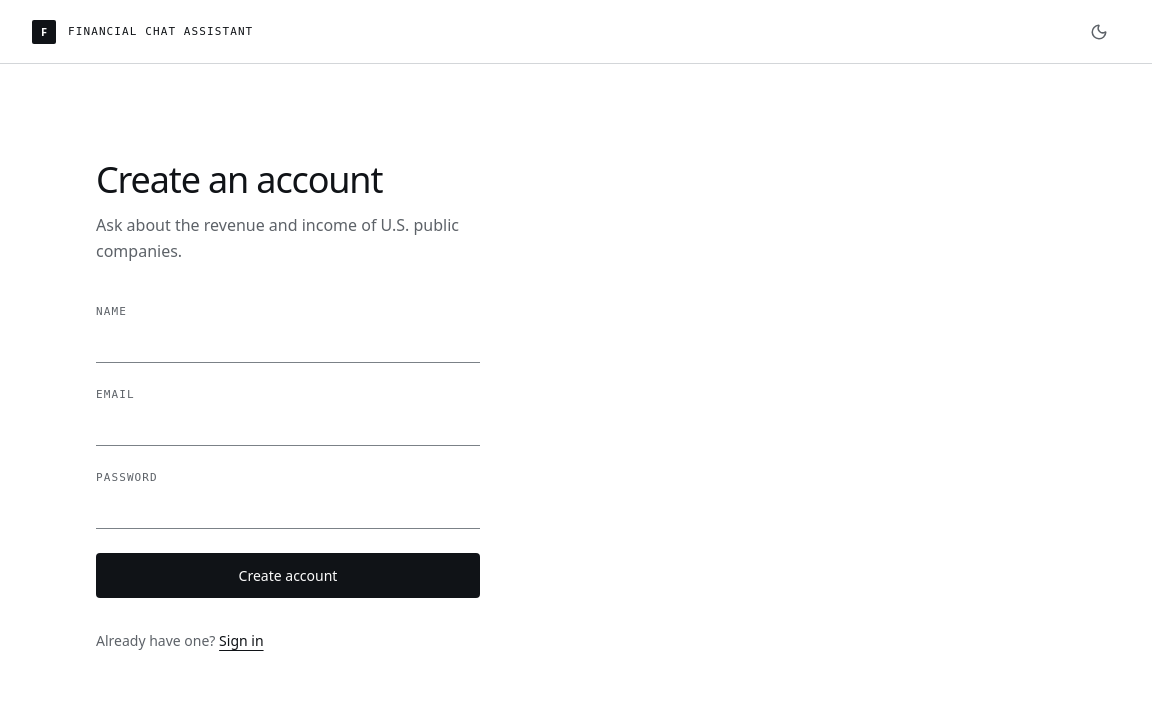
Scenario: registering › shows what the server said when the address is refused
Type "Ada Lovelace" into the field labelled "Name" at (288, 346), box [96,328,480,363]
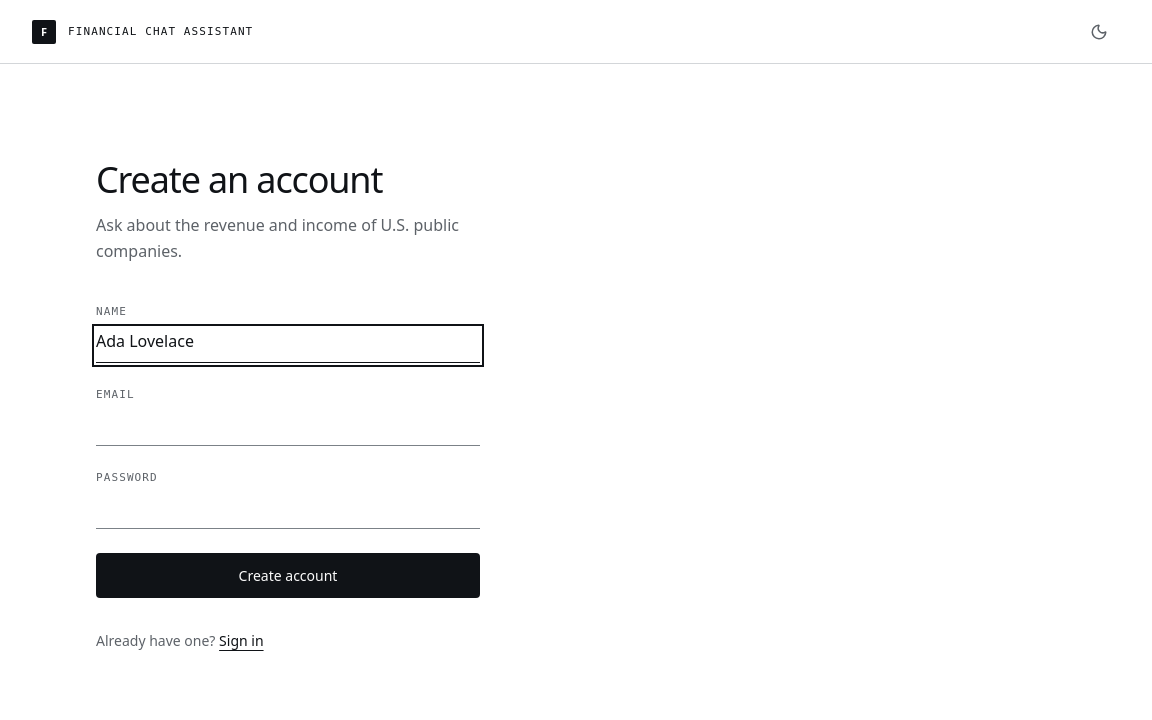
Type "ada@example.com" into the field labelled "Email" at (288, 428), box [96,410,480,446]
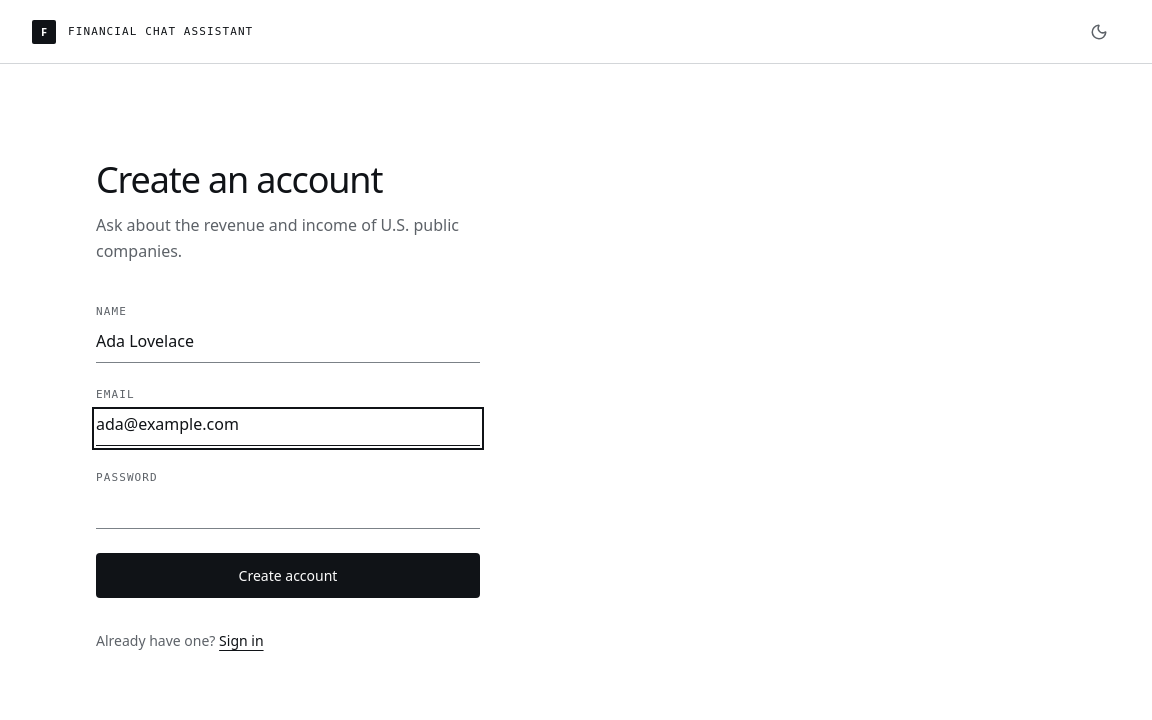
Type "correct-horse-battery" into the password field labelled "Password" at (288, 511), box [96,493,480,529]
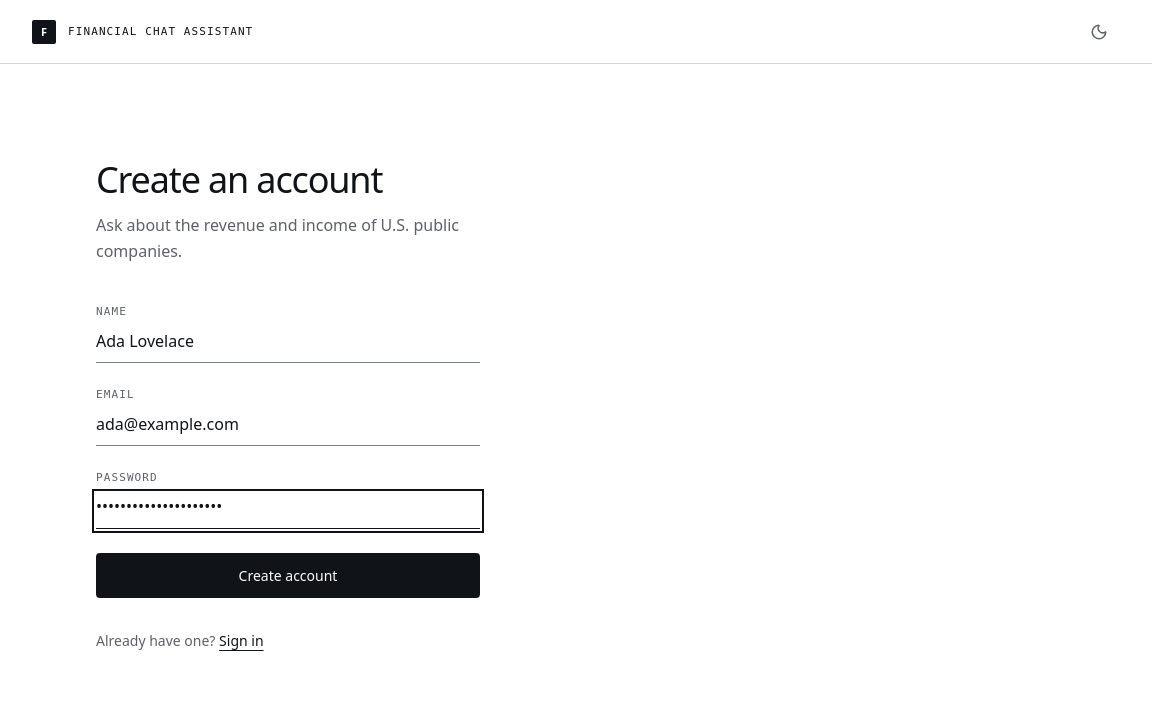
Click the button "Create account" at (288, 575), box [96,553,480,598]
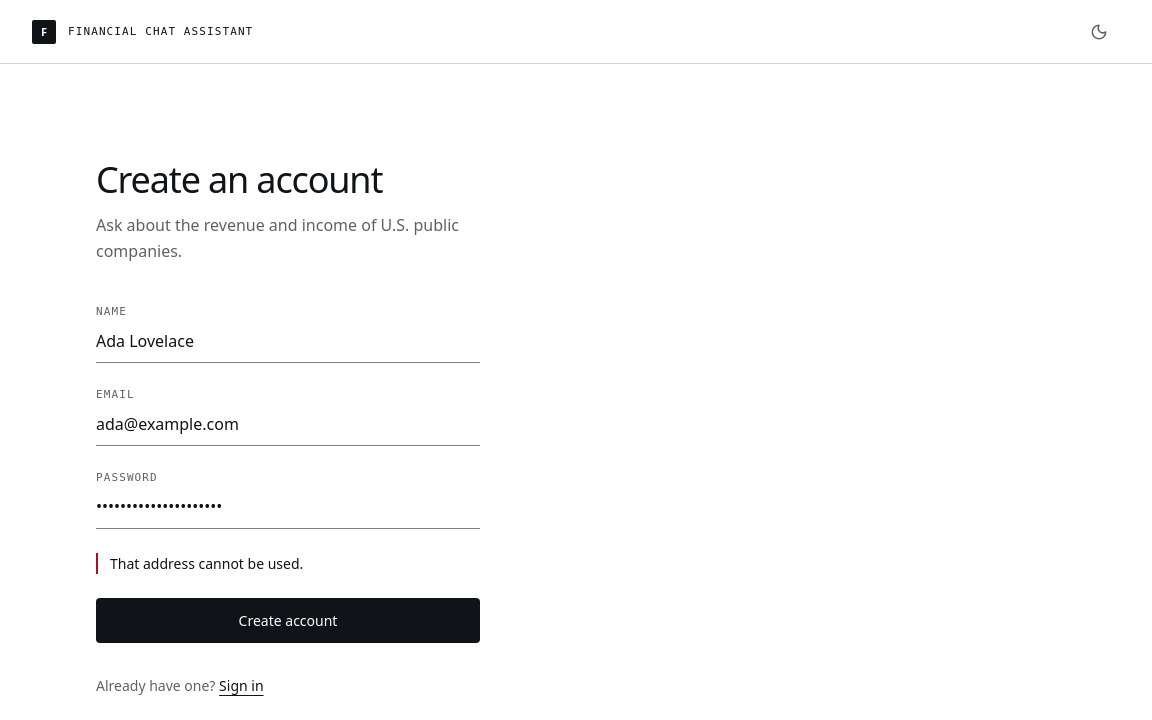
Result: the message reads "That address cannot be used." at [110,554,303,573]
